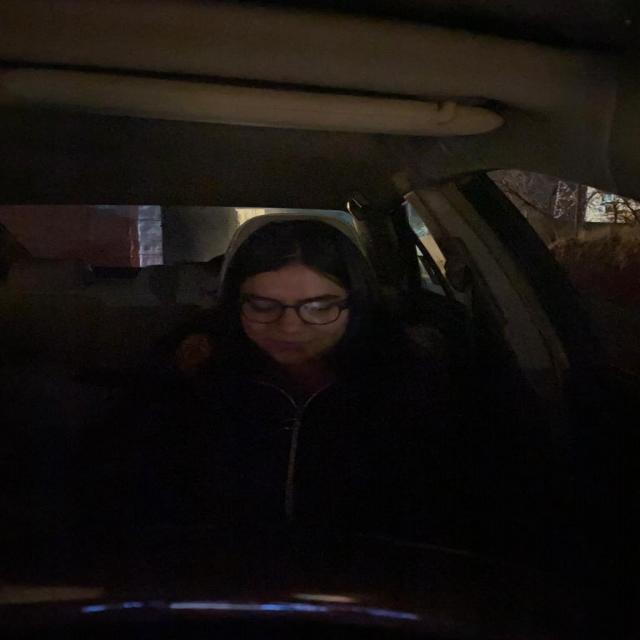drowsy: (221, 213, 373, 367)
